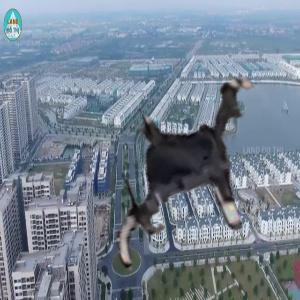drone: (78, 61, 297, 280)
